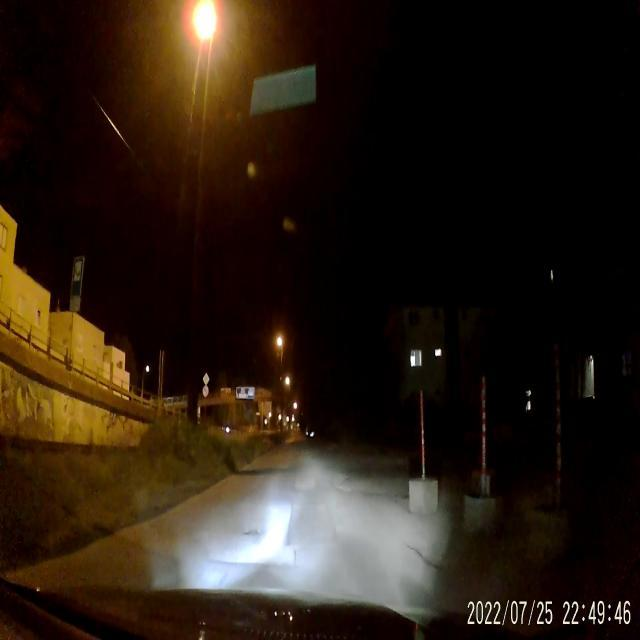Pothole: (242, 521, 264, 543)
